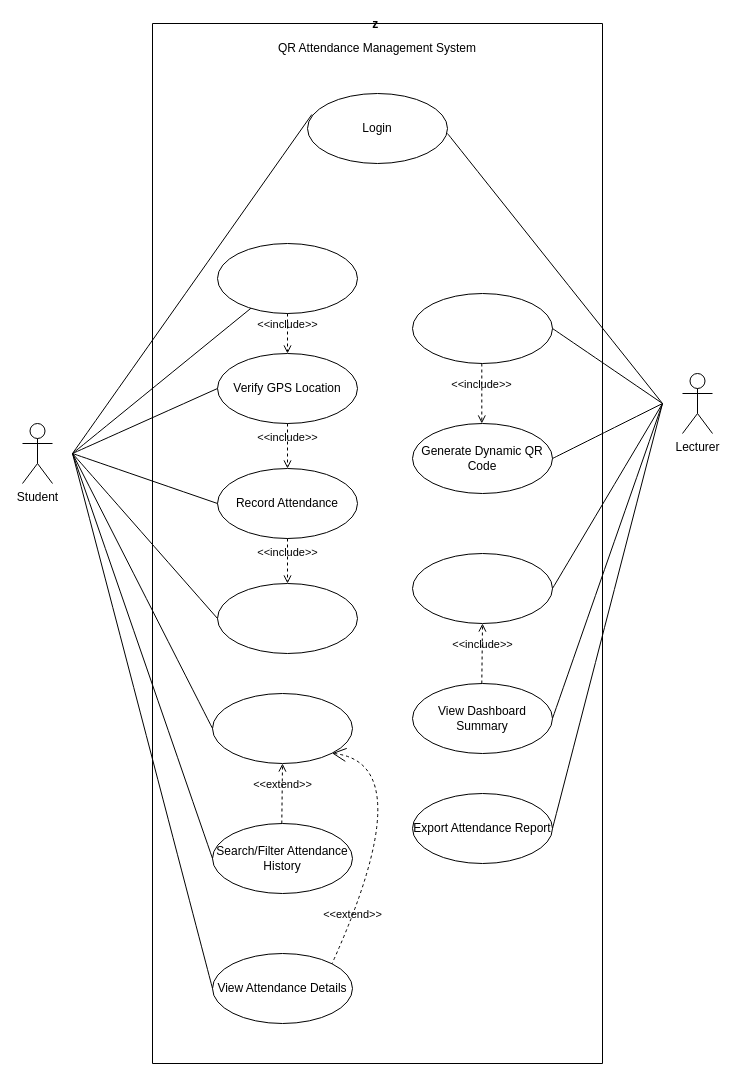
Image size: 737x1081. Some labels were removed from this diagram. The shapes that lost their labels are listed below. From the top down, each one's centre as x and y in pixels, then its label:
(x=287, y=278): Scan QR Code
(x=482, y=328): Create Session
(x=482, y=588): View Live Attendance List
(x=287, y=618): Receive Check-in Feedback
(x=282, y=728): View Attendance History
